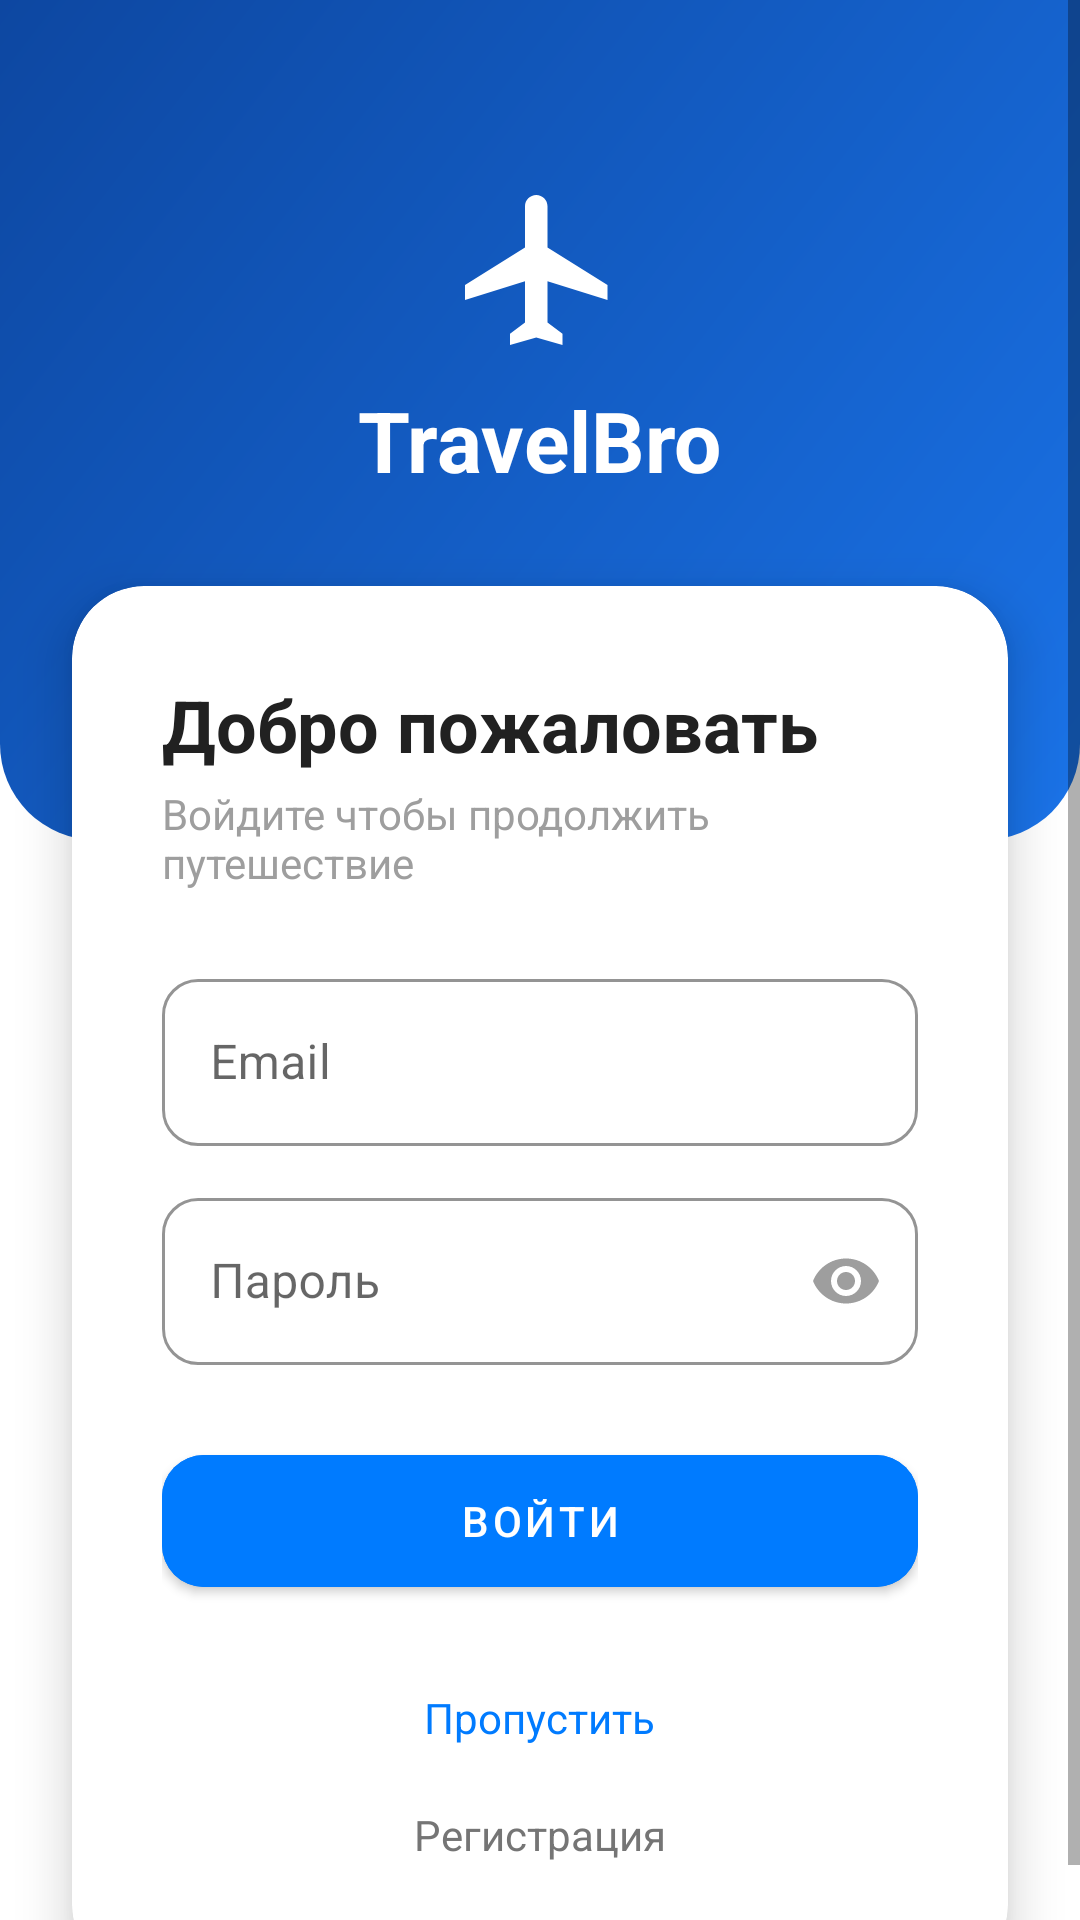

Screen size 1080×1920. Icon name, then its center in pixels as (x=x, y=y):
plane: (x=536, y=270)
